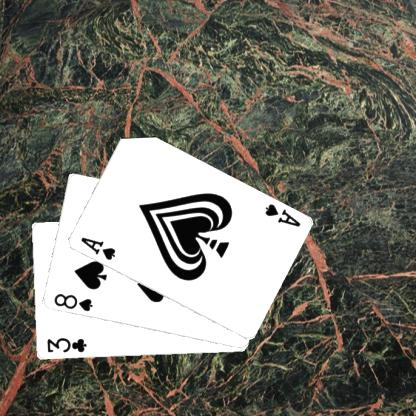3C: (44, 335, 87, 354)
8S: (51, 291, 94, 313)
AS: (261, 201, 302, 229), (78, 235, 116, 261)
